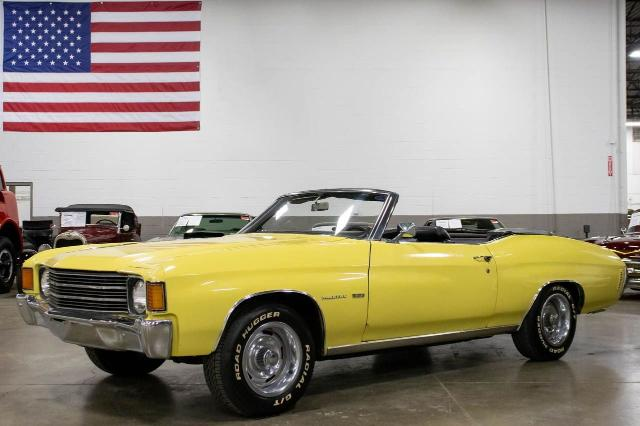chevelle-1972: (17, 189, 635, 417)
